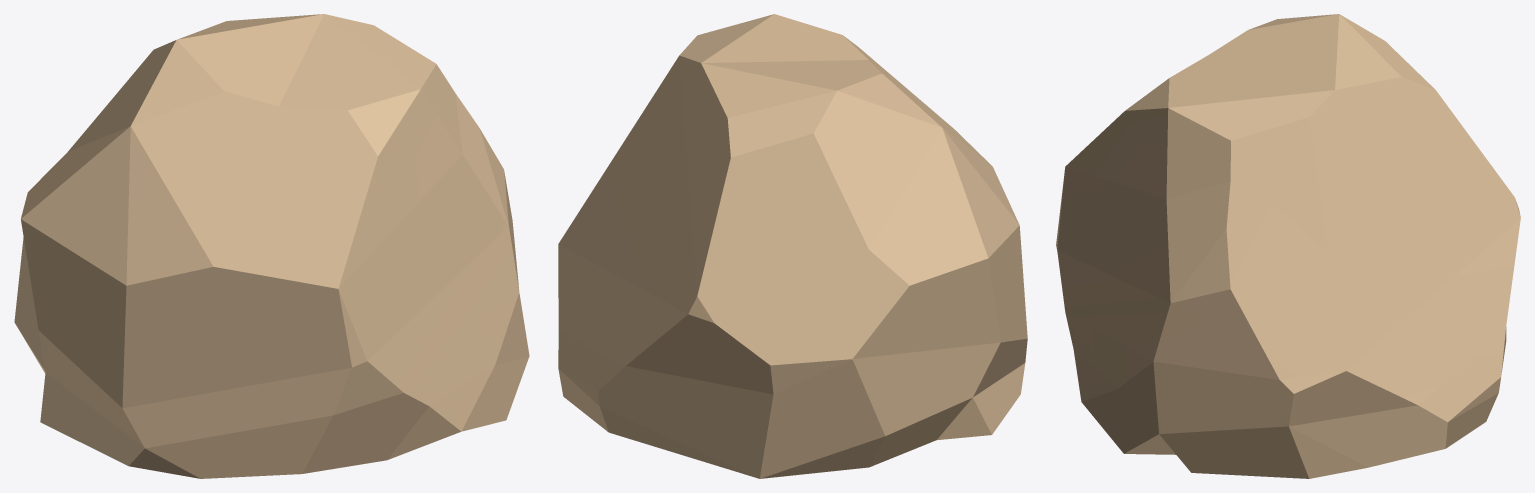
File: nature-stone-big.glb
3 renders of one model, left to right at view 1: azimuth 30°, elevation 25°; view 2: azimuth 150°, elevation 25°; view 3: azimuth 270°, elevation 25°, orthographic. The views are drawn at different scales.
Visible parts, largest first — view 1: stone-big; view 2: stone-big; view 3: stone-big.
Part boxes in pixels (x1,y1,x2,y2): stone-big: (14,14,529,478); stone-big: (558,14,1027,478); stone-big: (1056,14,1520,478).
Bounding box in the file's own units: 3.09 × 2.27 × 2.77.
